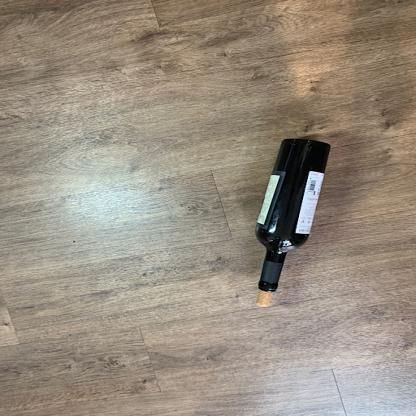trash: (254, 136, 331, 294)
